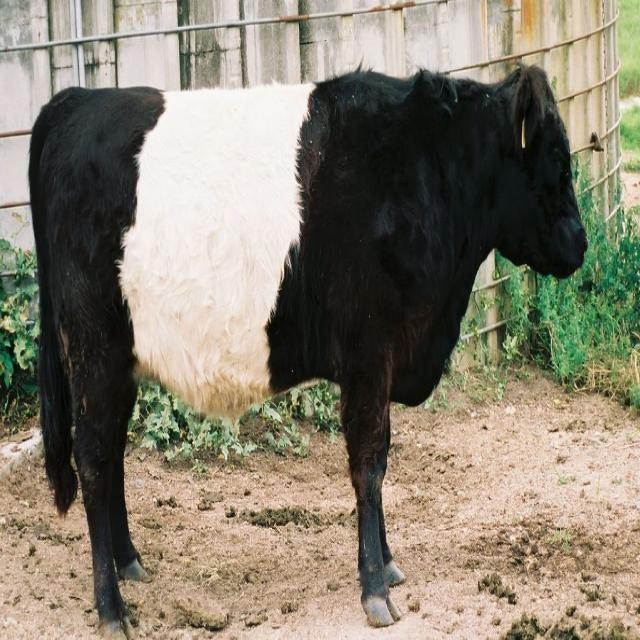Deer: (26, 38, 590, 640)
